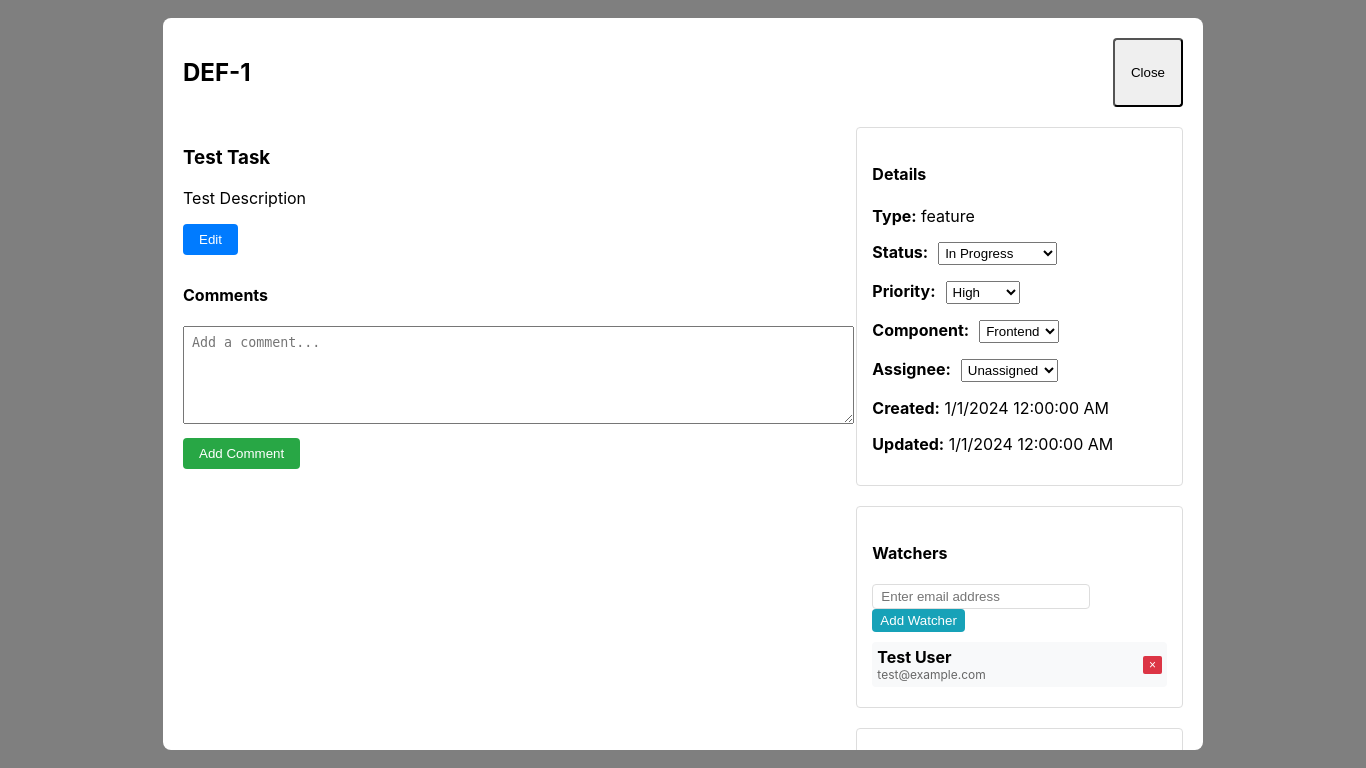
Scenario: TaskDetail Component › shows error for duplicate email
Type "test@example.com" into the field with placeholder "Enter email address". click: (981, 597)
box: [872,584,1090,609]
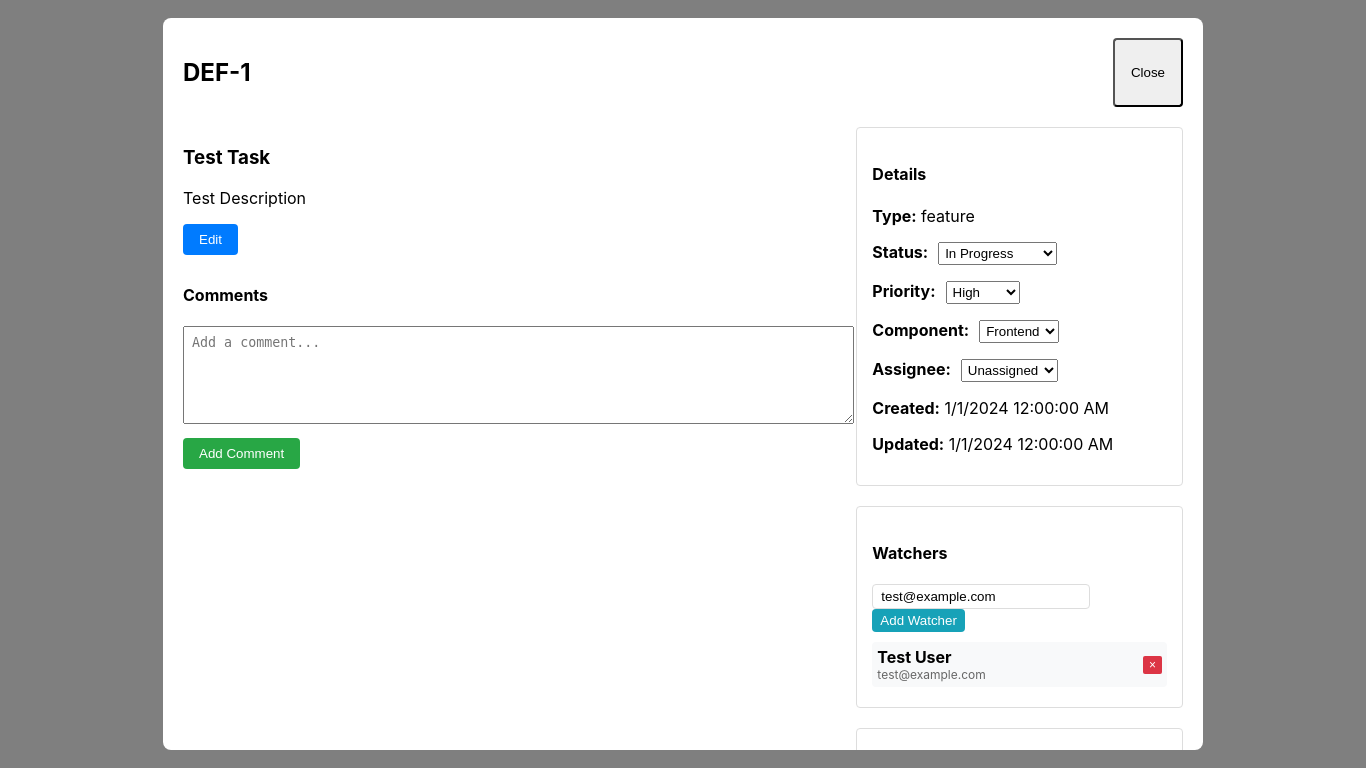
Click the button "Add Watcher". click: (919, 621)
box: [872,609,965,632]
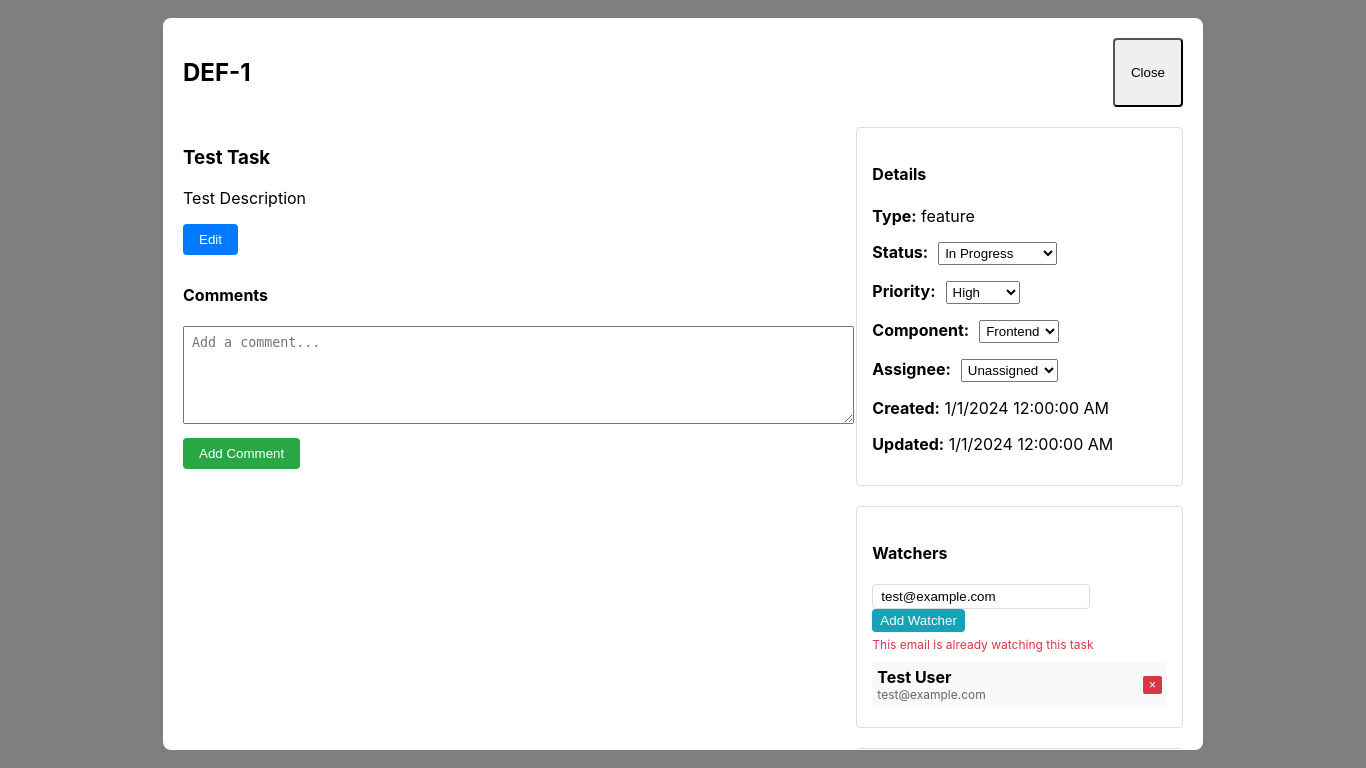
Now the text "This email is already watching this task" is shown, box [872,637,1094,652]
